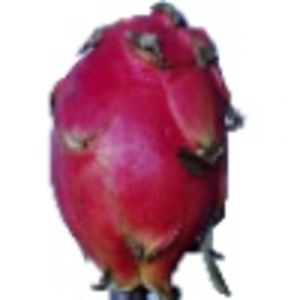pitaia: (47, 1, 248, 300)
